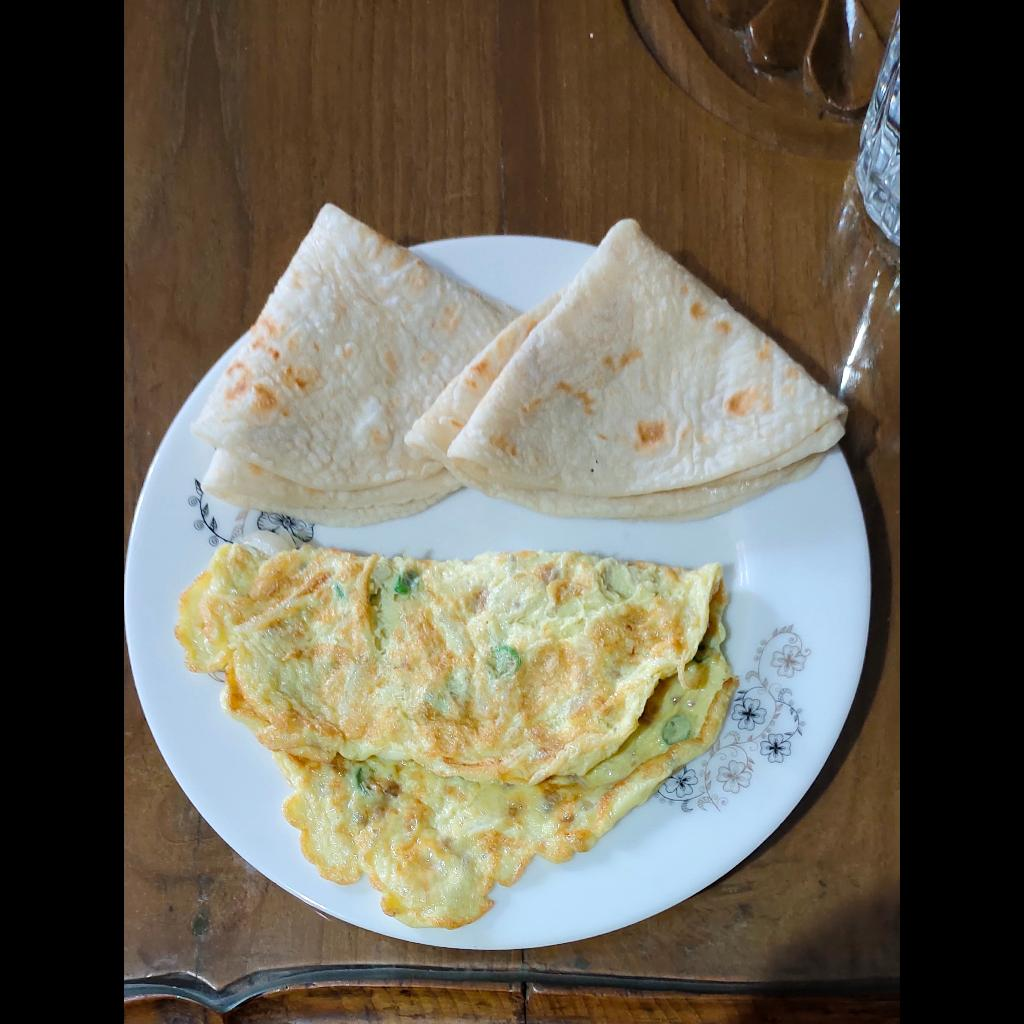egg-poached: (175, 526, 736, 933)
ruti: (189, 198, 850, 529)
